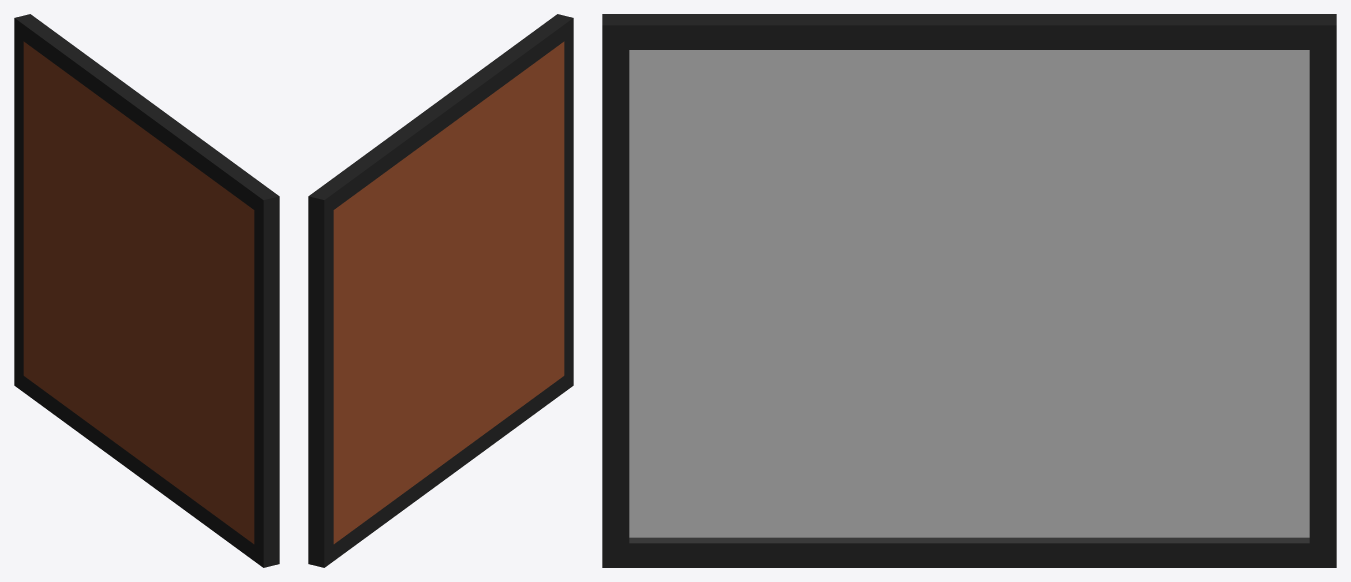
3 renders of one model, left to right at view 1: azimuth 30°, elevation 25°; view 2: azimuth 150°, elevation 25°; view 3: azimuth 270°, elevation 25°, orthographic. The views are drawn at different scales.
Visible parts, largest first — view 1: Fundo, Moldura; view 2: Fundo, Moldura; view 3: Vidro, image_0, Paspatur, Moldura (×2).
Boxes of the visible parts, bbox=[...] form: Fundo: bbox=[23, 41, 254, 543]; Moldura: bbox=[14, 14, 279, 567]; Fundo: bbox=[333, 41, 564, 543]; Moldura: bbox=[308, 14, 573, 567]; Vidro: bbox=[629, 50, 1309, 542]; image_0: bbox=[697, 124, 1241, 457]; Paspatur: bbox=[629, 50, 1309, 537]; Moldura (×2): bbox=[602, 14, 1336, 567].
Size of the model in its own units: 0.7874 by 21.26 by 17.32.
